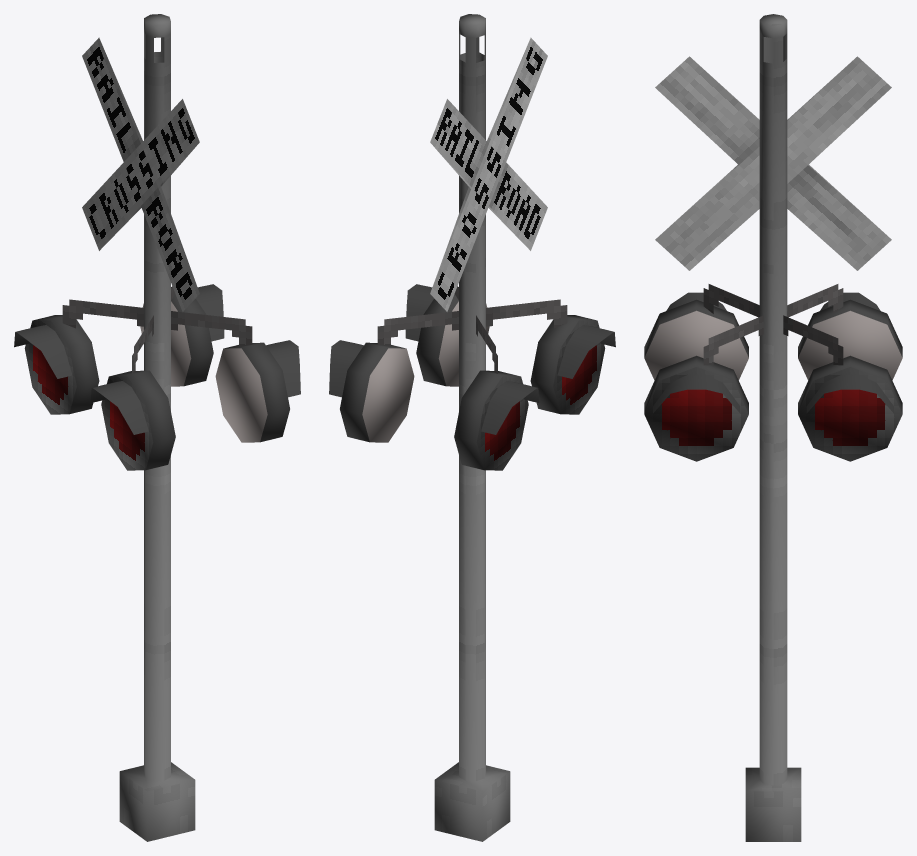
Rendered from base_crossing.obj.
3 renders of one model, left to right at view 1: azimuth 30°, elevation 25°; view 2: azimuth 150°, elevation 25°; view 3: azimuth 270°, elevation 25°, orthographic.
Parts seen in each view (by area): view 1: lights1, base, signpost, lightconec; view 2: lights1, base, signpost, lightconec; view 3: lights1, base, signpost, lightconec.
Part boxes in pixels (box(x1,y1,x2,y2)): lights1: box(14, 284, 300, 470); base: box(119, 14, 195, 841); signpost: box(82, 37, 199, 311); lightconec: box(62, 286, 252, 373); lights1: box(329, 284, 615, 470); base: box(434, 14, 510, 841); signpost: box(430, 37, 547, 311); lightconec: box(377, 286, 567, 373); lights1: box(644, 292, 902, 461); base: box(745, 14, 801, 841); signpost: box(655, 56, 891, 270); lightconec: box(703, 284, 843, 365).
Size of the model in its own units: 32.75 by 128 by 37.
